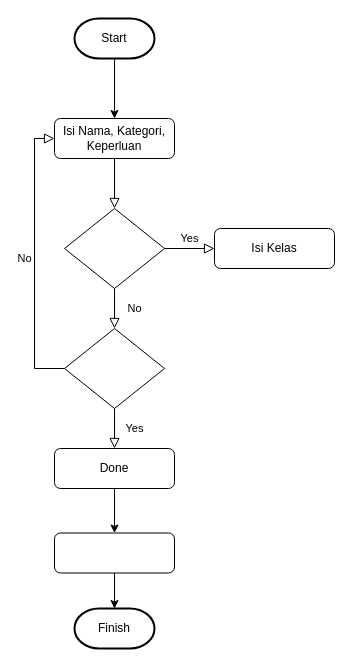
Image size: 352x666. Some labels were removed from this diagram. The shapes that lost their labels are listed below. From the top down, each one's centre as x and y in pixels, then its label:
the point at 114,248: Kategori = Siswa?
the point at 114,368: Semua sudah terisi?
the point at 114,552: Kembali ke halaman index
